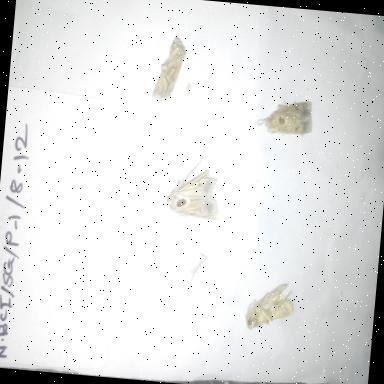abw: (158, 150, 226, 231), (240, 273, 300, 341), (253, 88, 322, 146), (146, 32, 190, 108)
